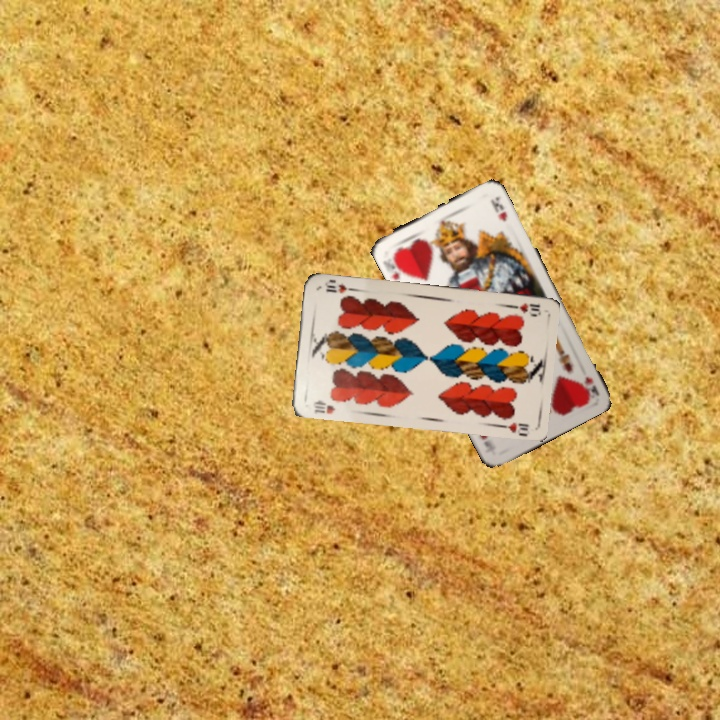H10: (504, 299, 543, 317), (309, 396, 338, 416)
HK: (385, 249, 407, 283), (581, 372, 602, 398)
